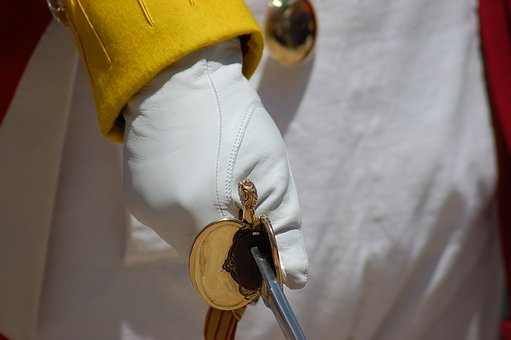fist: (126, 108, 332, 288)
